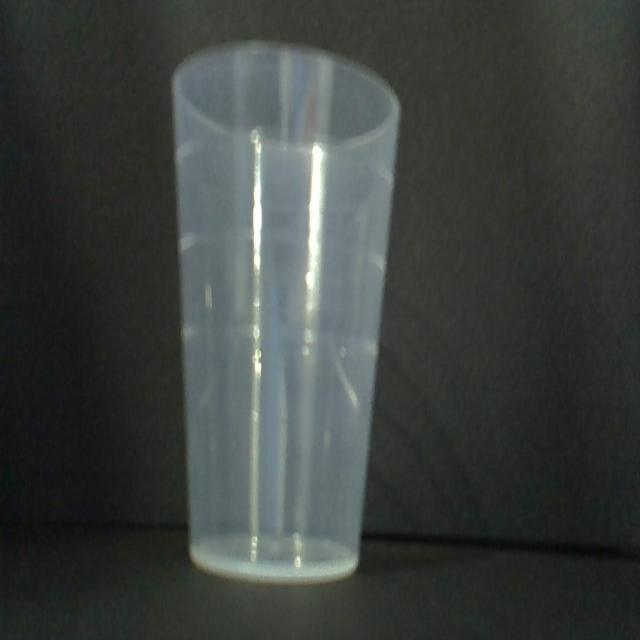cup: (168, 38, 402, 584)
